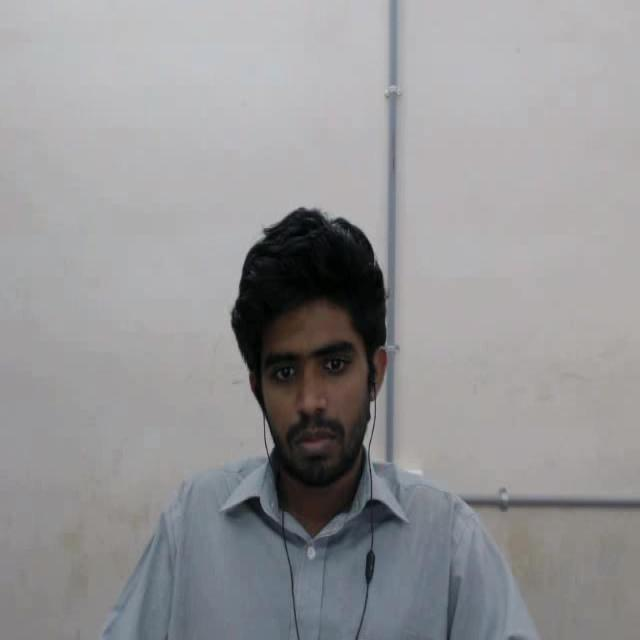Engaged: (202, 196, 440, 488)
